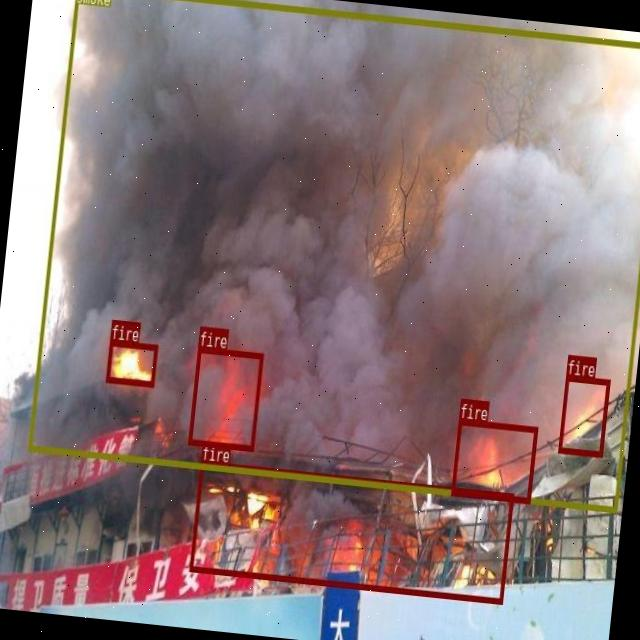fire: (188, 461, 513, 604), (188, 346, 264, 450), (450, 418, 538, 503), (556, 374, 610, 456), (106, 339, 156, 386)
smoke: (27, 0, 640, 512)
